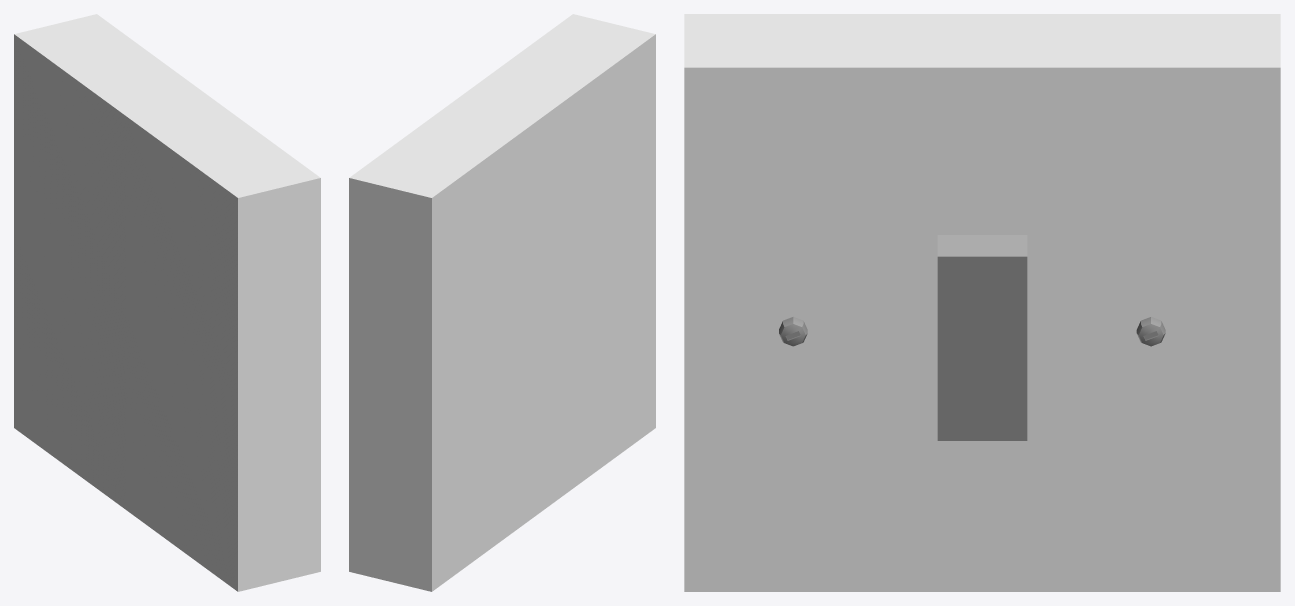
File: switch.glb
3 views of the same model, side by side, from view 1: azimuth 30°, elevation 25°; view 2: azimuth 150°, elevation 25°; view 3: azimuth 270°, elevation 25° (orthographic). The views are drawn at different scales.
Parts seen in each view (by area): view 1: Mesh_Switch_01; view 2: Mesh_Switch_01; view 3: Mesh_Switch_01.
Part boxes in pixels (x1,y1,x2,y2): Mesh_Switch_01: [14, 14, 320, 591]; Mesh_Switch_01: [349, 14, 655, 591]; Mesh_Switch_01: [684, 14, 1280, 591].
Bounding box in the file's own units: 0.0586 × 0.2 × 0.2061.
Materials: 1 (1 with a texture image).
